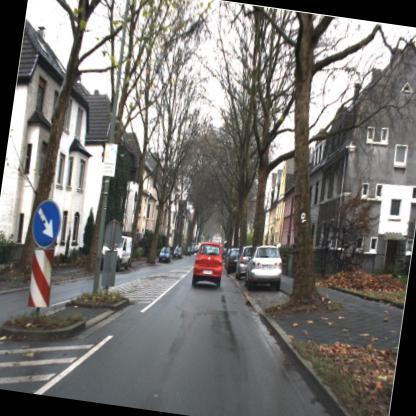mandatory: (26, 192, 71, 254)
